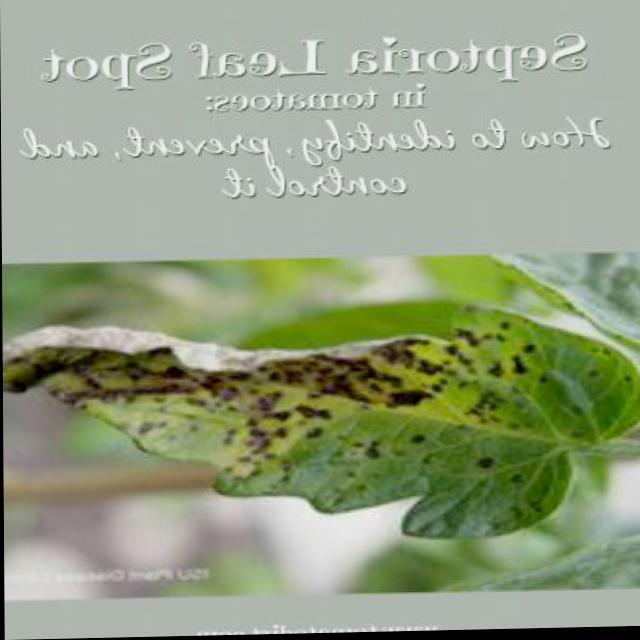Tomato Septoria spot leaf: (3, 299, 640, 556)
